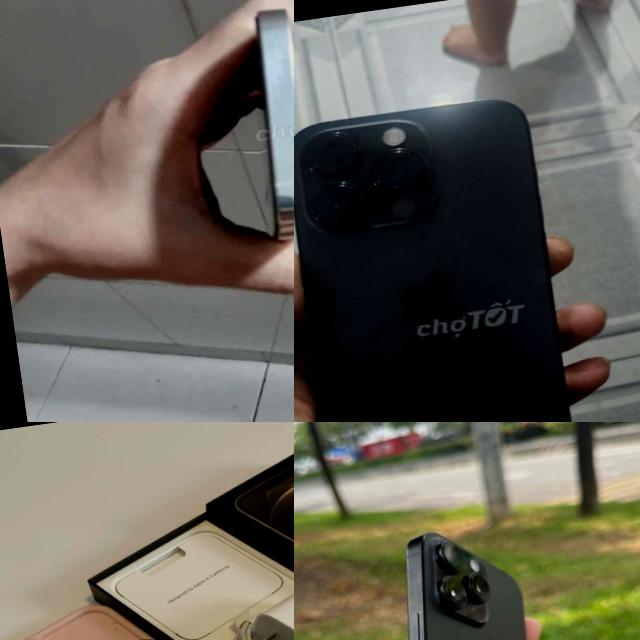gen_12_13: (229, 0, 294, 241)
gen_14: (294, 79, 597, 422)
gen_16: (350, 510, 578, 640)
